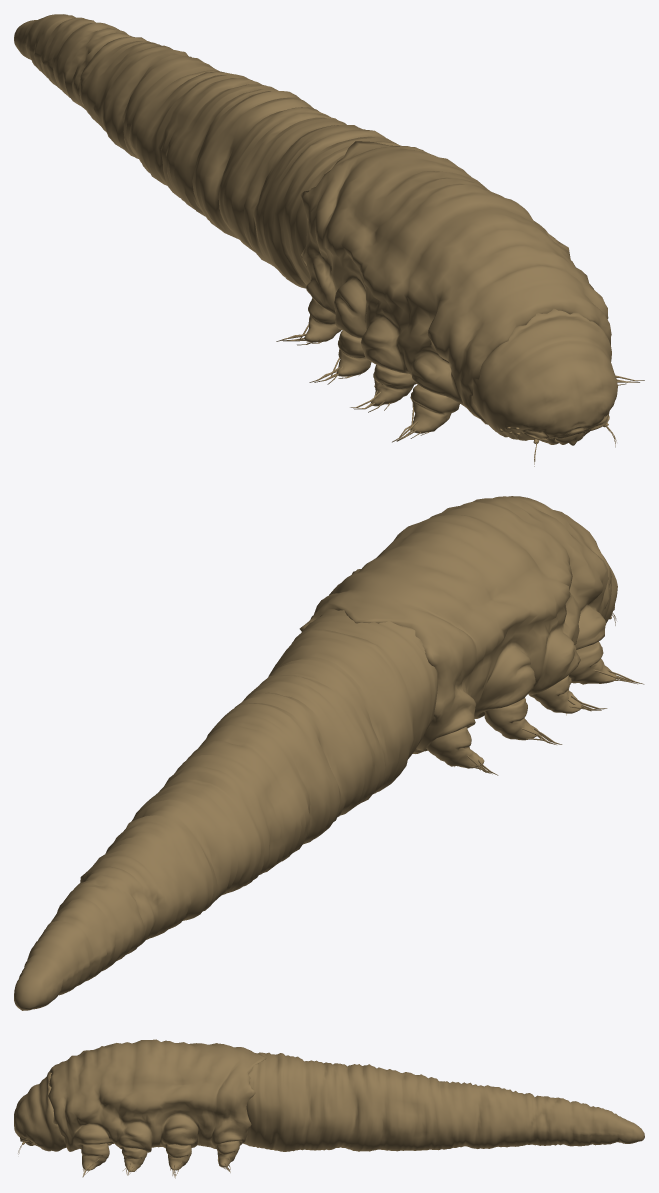
Rendered from Ch1_Demodex_Mite_Model.glb.
3 views of the same model, one above another, from view 1: azimuth 30°, elevation 25°; view 2: azimuth 150°, elevation 25°; view 3: azimuth 270°, elevation 25° (orthographic). The views are drawn at different scales.
Parts seen in each view (by area): view 1: Merged_head.002; view 2: Merged_head.002; view 3: Merged_head.002.
Part boxes in pixels (x1,y1,x2,y2): Merged_head.002: (14,14,644,466); Merged_head.002: (14,496,644,1010); Merged_head.002: (14,1039,644,1178).
Bounding box in the file's own units: 0.3033 × 0.204 × 1.14.
